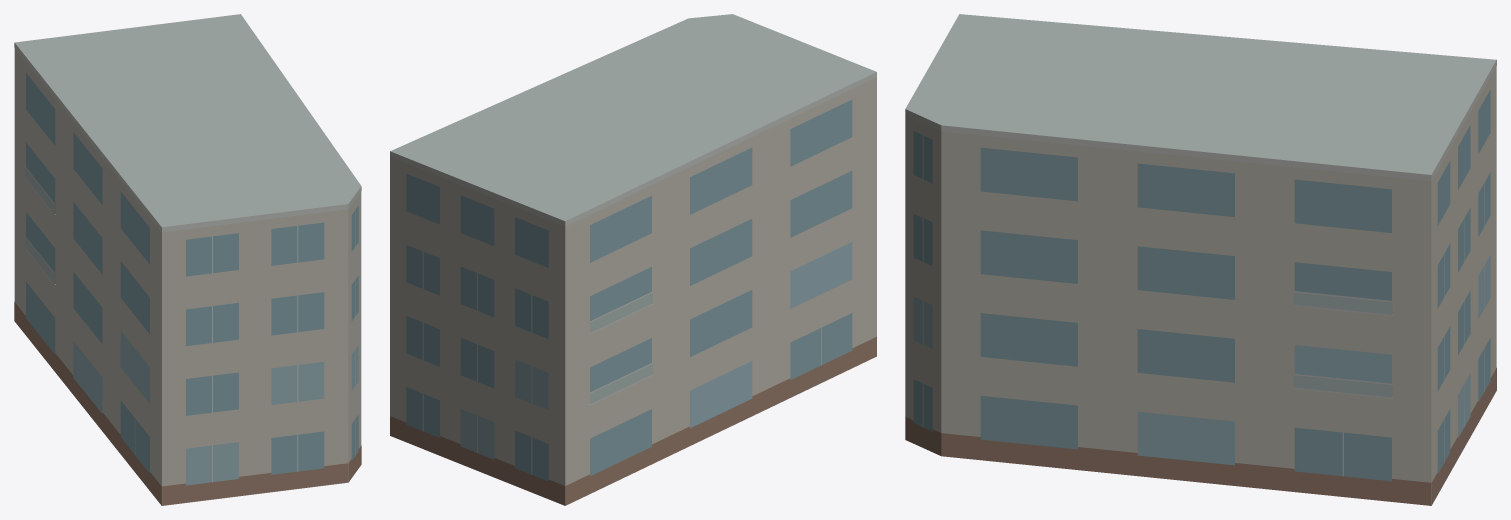
Rendered from survey-upis-32813940.glb.
3 renders of one model, left to right at view 1: azimuth 30°, elevation 25°; view 2: azimuth 150°, elevation 25°; view 3: azimuth 270°, elevation 25°, orthographic. The views are drawn at different scales.
Visible parts, largest first — view 1: survey-upis-32813940.tmp; view 2: survey-upis-32813940.tmp; view 3: survey-upis-32813940.tmp.
Boxes of the visible parts, <box> form: survey-upis-32813940.tmp: <box>14,14,361,505</box>; survey-upis-32813940.tmp: <box>390,14,876,505</box>; survey-upis-32813940.tmp: <box>905,14,1496,505</box>.
Size of the model in its own units: 13.68 by 13.1 by 21.23.
